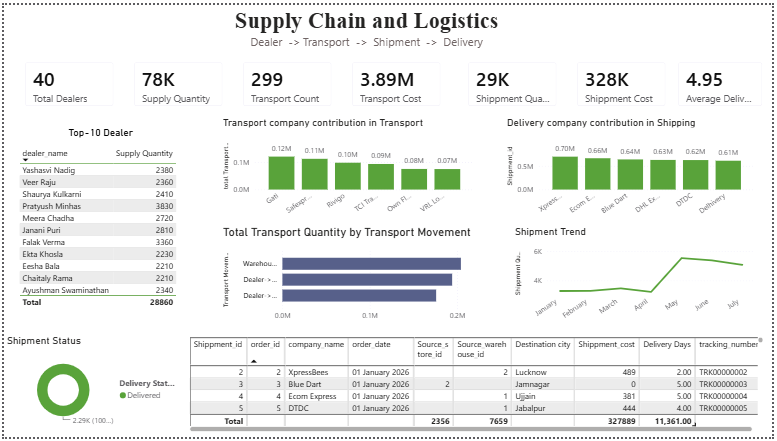

The page's visual inventory and layout, read from the dashboard file:
{"tool":"powerbi","page":{"name":"Page 4","canvas":[1280,720],"ordinal":3},"visuals":[{"type":"textbox","box":[341.4,0,525.7,90],"z":0},{"type":"cardVisual","fields":{"Data":["retail_sales category.Supply Quantity"]},"box":[200.5,77.6,181.2,107.5],"z":1000},{"type":"cardVisual","fields":{"Data":["retail_sales category.Total Dealers"]},"box":[19,77.6,181.2,107.5],"z":2000},{"type":"cardVisual","fields":{"Data":["retail_sales category.Transport Count"]},"box":[382,77.6,181.2,107.5],"z":3000},{"type":"cardVisual","fields":{"Data":["retail_sales category.Shippment Quantity"]},"box":[756.6,77.6,181.2,107.5],"z":4000},{"type":"cardVisual","fields":{"Data":["retail_sales category.Shippment Cost"]},"box":[938,77.6,181.2,107.5],"z":5000},{"type":"cardVisual","fields":{"Data":["retail_sales category.Transport Cost"]},"box":[563.4,77.6,181.2,107.5],"z":6000},{"type":"cardVisual","fields":{"Data":["retail_sales category.Average Delivery Days"]},"box":[1106.3,77.6,174.3,107.1],"z":7000},{"type":"tableEx","title":"Top-10 Dealer","fields":{"Values":["retail_sales dealer.dealer_name","retail_sales category.Supply Quantity"]},"box":[20.5,202,282.4,314.6],"z":8000},{"type":"barChart","title":"Total Transport Quantity by Transport Movement","fields":{"Category":["retail_sales transport.Transport Movement"],"Y":["retail_sales category.total Transport Quantity"]},"box":[360,365.9,487.3,168.3],"z":9000},{"type":"donutChart","title":"Shipment Status","fields":{"Category":["retail_sales shippment.Delivery Status"],"Y":["CountNonNull(retail_sales shippment.shippment_id)"]},"box":[0,548.8,291.2,156.6],"z":10000},{"type":"columnChart","title":"Delivery company contribution in Shipping","fields":{"Category":["retail_sales delivery_company.company_name"],"Y":["Sum(retail_sales shippment.shippment_id)"]},"box":[832.7,184.4,422.9,175.6],"z":11000},{"type":"columnChart","title":"Transport company contribution in Transport","fields":{"Category":["retail_sales transport.transport_company"],"Y":["retail_sales category.total Transport Quantity"]},"box":[360,184.4,428.8,175.6],"z":12000},{"type":"tableEx","fields":{"Values":["retail_sales shippment.shippment_id","retail_sales shippment.order_id","retail_sales delivery_company.company_name","retail_sales orders.order_date","Sum(retail_sales shippment.source_store_id)","Sum(retail_sales shippment.source_warehouse_id)","retail_sales location.city","Sum(retail_sales shippment.shippment_cost)","select","retail_sales category.Average Delivery Days","retail_sales shippment.tracking_number"]},"box":[302.9,548.8,967.3,168.3],"z":13000},{"type":"lineChart","title":"Shipment Trend","fields":{"Category":["retail_sales shippment.shippment_date.Variation.Date Hierarchy.Month"],"Y":["retail_sales category.Shippment Quantity"]},"box":[847,366,409,168],"z":14000}]}

Visuals, with their boxes in screenshot pixels (x1, y1, x2, y2), scaled from the page's 1280x720 canvas onto the 777x441 screenshot:
textbox: (207, 0, 526, 55)
cardVisual - retail_sales category.Supply Quantity: (122, 48, 232, 113)
cardVisual - retail_sales category.Total Dealers: (12, 48, 122, 113)
cardVisual - retail_sales category.Transport Count: (232, 48, 342, 113)
cardVisual - retail_sales category.Shippment Quantity: (459, 48, 569, 113)
cardVisual - retail_sales category.Shippment Cost: (569, 48, 679, 113)
cardVisual - retail_sales category.Transport Cost: (342, 48, 452, 113)
cardVisual - retail_sales category.Average Delivery Days: (672, 48, 776, 113)
"Top-10 Dealer" tableEx: (12, 124, 184, 316)
"Total Transport Quantity by Transport Movement" barChart: (219, 224, 514, 327)
"Shipment Status" donutChart: (0, 336, 177, 432)
"Delivery company contribution in Shipping" columnChart: (505, 113, 762, 221)
"Transport company contribution in Transport" columnChart: (219, 113, 479, 221)
tableEx - retail_sales shippment.shippment_id x retail_sales shippment.order_id: (184, 336, 771, 439)
"Shipment Trend" lineChart: (514, 224, 762, 327)
